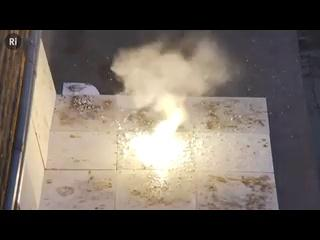Fire: (133, 88, 191, 174)
